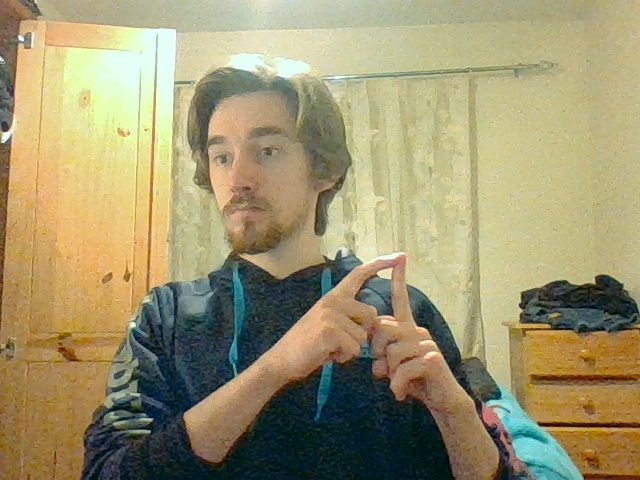daughter: (316, 252, 435, 360)
